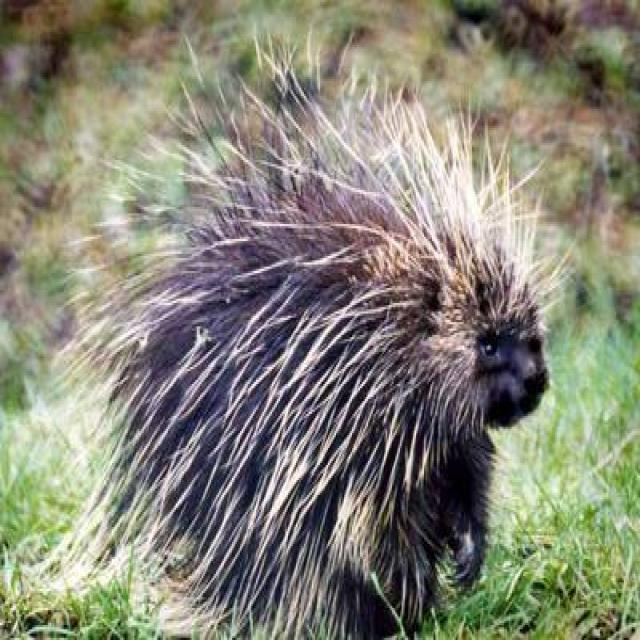Porcupine: (95, 48, 553, 640)
